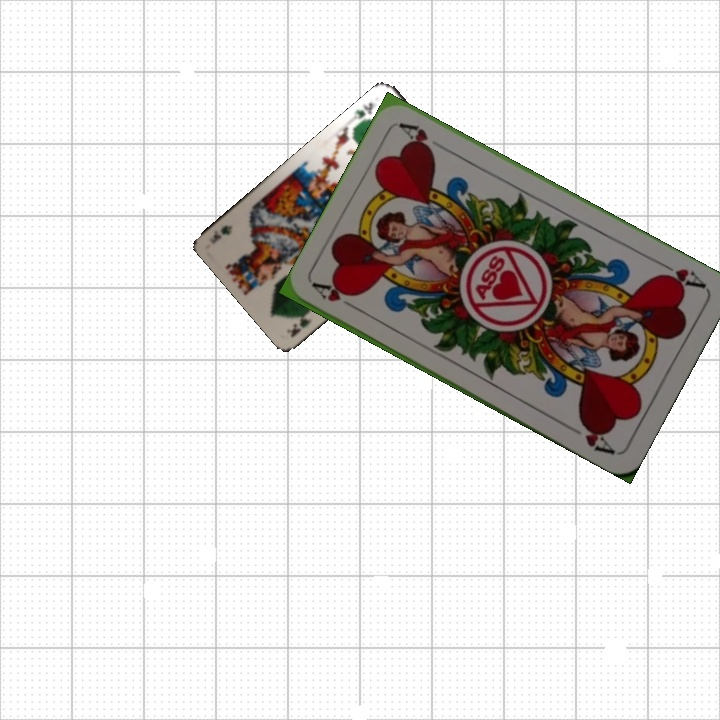GK: (286, 303, 315, 339), (349, 98, 375, 122)
HA: (653, 257, 708, 293), (310, 279, 365, 315)
